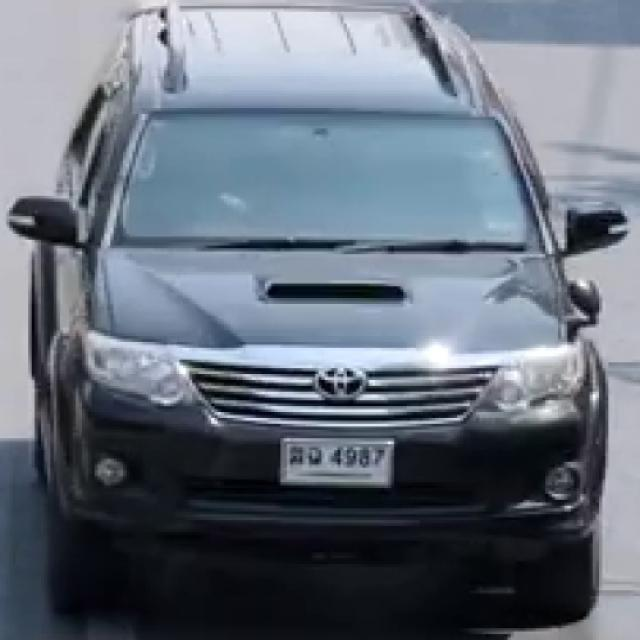plate: (287, 436, 394, 484)
